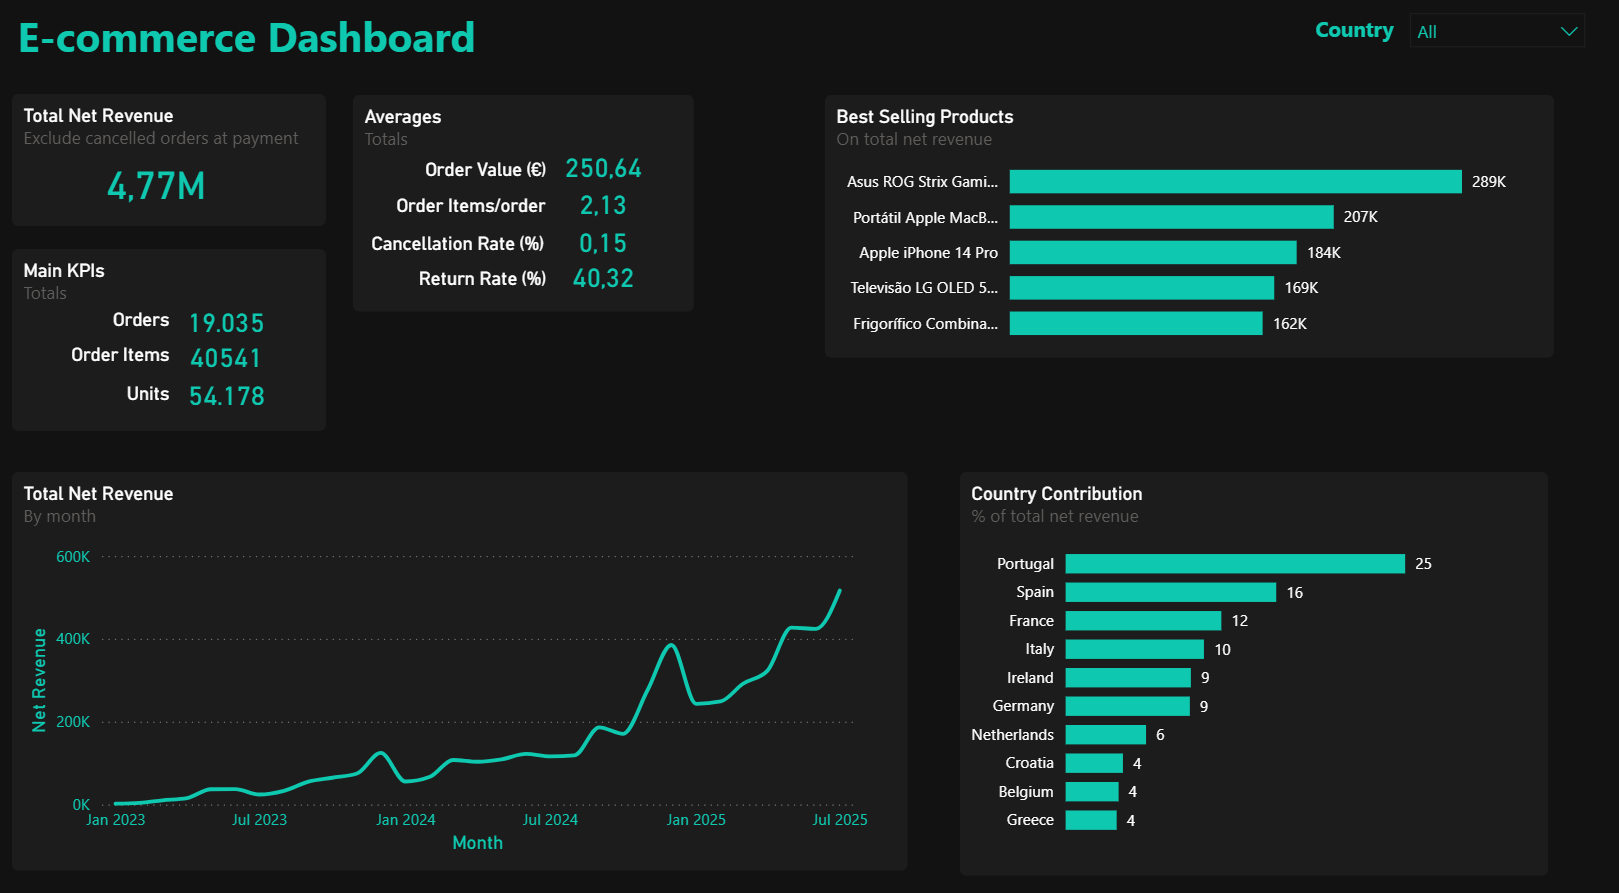

The page's visual inventory and layout, read from the dashboard file:
{"tool":"powerbi","page":{"name":"Overview","canvas":[1280,720],"ordinal":0},"visuals":[{"type":"textbox","box":[15.7,11.8,383.2,65.2],"z":0},{"type":"shape","title":"Main KPIs","box":[16.1,205.6,245.4,142.1],"z":0,"group":"g4"},{"type":"slicer","fields":{"Values":["DimCountry.CountryName"]},"box":[1097.6,10.7,157.2,47.6],"z":1000},{"type":"shape","title":"Total Net Revenue","box":[16.1,84.3,245.4,103.3],"z":1000,"group":"g2"},{"type":"group","id":"g1","title":"Group 2","box":[650.4,85.1,568.8,204.9],"z":2000},{"type":"shape","title":"Country Contribution","box":[756.1,379,459.1,315.4],"z":2500,"group":"g5"},{"type":"group","id":"g2","title":"Group 3","box":[16.1,84.3,245.4,103.3],"z":3000},{"type":"card","title":"Total Orders","fields":{"Values":["measures_list.Total Orders"]},"box":[143.1,248.2,80,25],"z":3000,"group":"g4"},{"type":"group","id":"g3","title":"Group 4","box":[282.3,84.7,266,168.7],"z":4000},{"type":"card","title":"Total Order Items","fields":{"Values":["measures_list.Total Order Items"]},"box":[143.1,276.8,80,25.7],"z":4000,"group":"g4"},{"type":"group","id":"g4","title":"Group 5","box":[16.1,205.6,245.4,142.1],"z":5000},{"type":"card","title":"Total Units","fields":{"Values":["measures_list.Total Units"]},"box":[143.1,305.3,80,25],"z":5000,"group":"g4"},{"type":"card","fields":{"Values":["measures_list.Net Revenue"]},"box":[59.7,129.8,137.4,47.4],"z":6000,"group":"g2"},{"type":"group","id":"g5","title":"Group 7","box":[754.7,379,460.6,315.4],"z":6000},{"type":"shape","title":"Total Net Revenue","box":[16.7,379.2,698.9,311],"z":6000,"group":"g6"},{"type":"group","id":"g6","title":"Group 1","box":[16.7,379.2,698.9,311],"z":7000},{"type":"textbox","box":[1028.3,18.1,75.9,34.5],"z":8000},{"type":"shape","title":"Averages","box":[282.3,84.7,266,168.7],"z":9000,"group":"g3"},{"type":"barChart","fields":{"Category":["DimCountry.CountryName"],"Y":["measures_list.Country Contribution (%)"]},"box":[754.7,420.9,452.2,251.5],"z":9000,"group":"g5"},{"type":"lineChart","title":"Total Net Revenue by Month","fields":{"Y":["measures_list.Net Revenue"],"Category":["DateTable.DateMonthStart"]},"box":[24.9,431,665.3,251],"z":9000,"group":"g6"},{"type":"card","fields":{"Values":["measures_list.AOV"]},"box":[437.7,127.9,80,28.3],"z":10000,"group":"g3"},{"type":"card","fields":{"Values":["measures_list.Avg Order Items per Order"]},"box":[437.7,156.1,80,28.3],"z":11000,"group":"g3"},{"type":"card","fields":{"Values":["measures_list.Cancellation Rate %"]},"box":[437.7,185.9,80,28.3],"z":12000,"group":"g3"},{"type":"card","fields":{"Values":["measures_list.Return Rate Delivered Orders %"]},"box":[437.7,213.4,80,28.3],"z":13000,"group":"g3"},{"type":"textbox","box":[23.8,246.8,120,27.9],"z":16000,"group":"g4"},{"type":"textbox","box":[23.8,274.6,120,30],"z":17000,"group":"g4"},{"type":"textbox","box":[23.8,304.6,120,27.1],"z":18000,"group":"g4"},{"type":"textbox","box":[291.7,129.4,146,27],"z":19000,"group":"g3"},{"type":"textbox","box":[291.6,157,146,27],"z":20000,"group":"g3"},{"type":"shape","title":"Best Selling Products","box":[650.9,85.1,568.8,204.9],"z":21000,"group":"g1"},{"type":"textbox","box":[291.7,214.2,146,27.5],"z":22000,"group":"g3"},{"type":"textbox","box":[291.7,186.7,146,27],"z":23000,"group":"g3"},{"type":"clusteredBarChart","fields":{"Category":["order_items_enriched.product_name"],"Y":["measures_list.Net Revenue"]},"box":[650.4,119.7,548.7,170.1],"z":24000,"group":"g1"}]}

Visuals, with their boxes in screenshot pixels (x1, y1, x2, y2), scaled from the page's 1280x720 canvas onto the 1619x893 screenshot:
textbox: pyautogui.locateOnScreen(20, 15, 505, 96)
"Main KPIs" shape: pyautogui.locateOnScreen(20, 255, 331, 431)
slicer - DimCountry.CountryName: pyautogui.locateOnScreen(1388, 13, 1587, 72)
"Total Net Revenue" shape: pyautogui.locateOnScreen(20, 105, 331, 233)
"Group 2" group: pyautogui.locateOnScreen(823, 106, 1542, 360)
"Country Contribution" shape: pyautogui.locateOnScreen(956, 470, 1537, 861)
"Group 3" group: pyautogui.locateOnScreen(20, 105, 331, 233)
"Total Orders" card: pyautogui.locateOnScreen(181, 308, 282, 339)
"Group 4" group: pyautogui.locateOnScreen(357, 105, 694, 314)
"Total Order Items" card: pyautogui.locateOnScreen(181, 343, 282, 375)
"Group 5" group: pyautogui.locateOnScreen(20, 255, 331, 431)
"Total Units" card: pyautogui.locateOnScreen(181, 379, 282, 410)
card - measures_list.Net Revenue: pyautogui.locateOnScreen(76, 161, 249, 220)
"Group 7" group: pyautogui.locateOnScreen(955, 470, 1537, 861)
"Total Net Revenue" shape: pyautogui.locateOnScreen(21, 470, 905, 856)
"Group 1" group: pyautogui.locateOnScreen(21, 470, 905, 856)
textbox: pyautogui.locateOnScreen(1301, 22, 1397, 65)
"Averages" shape: pyautogui.locateOnScreen(357, 105, 694, 314)
barChart - DimCountry.CountryName x measures_list.Country Contribution (%): pyautogui.locateOnScreen(955, 522, 1527, 834)
"Total Net Revenue by Month" lineChart: pyautogui.locateOnScreen(31, 535, 873, 846)
card - measures_list.AOV: pyautogui.locateOnScreen(554, 159, 655, 194)
card - measures_list.Avg Order Items per Order: pyautogui.locateOnScreen(554, 194, 655, 229)
card - measures_list.Cancellation Rate %: pyautogui.locateOnScreen(554, 231, 655, 266)
card - measures_list.Return Rate Delivered Orders %: pyautogui.locateOnScreen(554, 265, 655, 300)
textbox: pyautogui.locateOnScreen(30, 306, 182, 341)
textbox: pyautogui.locateOnScreen(30, 341, 182, 378)
textbox: pyautogui.locateOnScreen(30, 378, 182, 411)
textbox: pyautogui.locateOnScreen(369, 160, 554, 194)
textbox: pyautogui.locateOnScreen(369, 195, 553, 228)
"Best Selling Products" shape: pyautogui.locateOnScreen(823, 106, 1543, 360)
textbox: pyautogui.locateOnScreen(369, 266, 554, 300)
textbox: pyautogui.locateOnScreen(369, 232, 554, 265)
clusteredBarChart - order_items_enriched.product_name x measures_list.Net Revenue: pyautogui.locateOnScreen(823, 148, 1517, 359)
